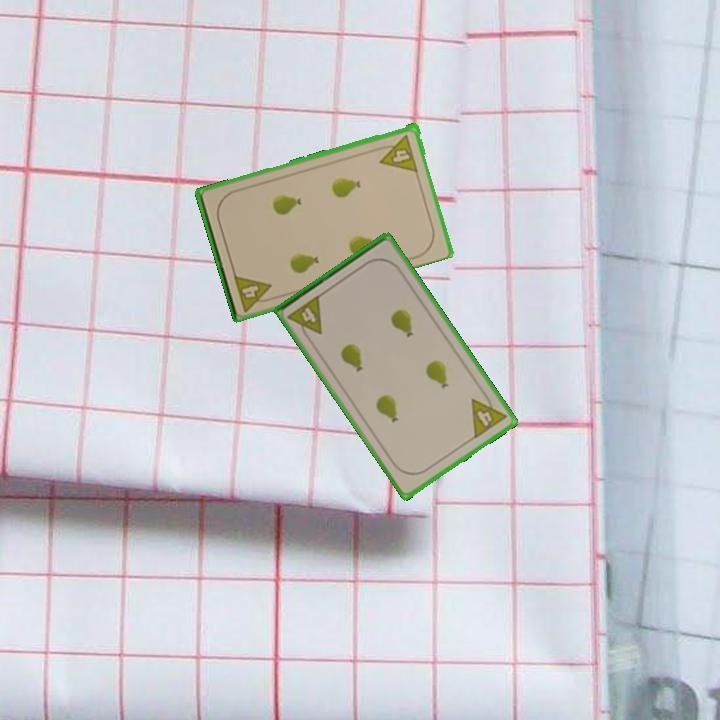4p: (468, 388, 510, 441), (284, 291, 326, 343), (230, 271, 278, 314), (374, 130, 420, 174)
